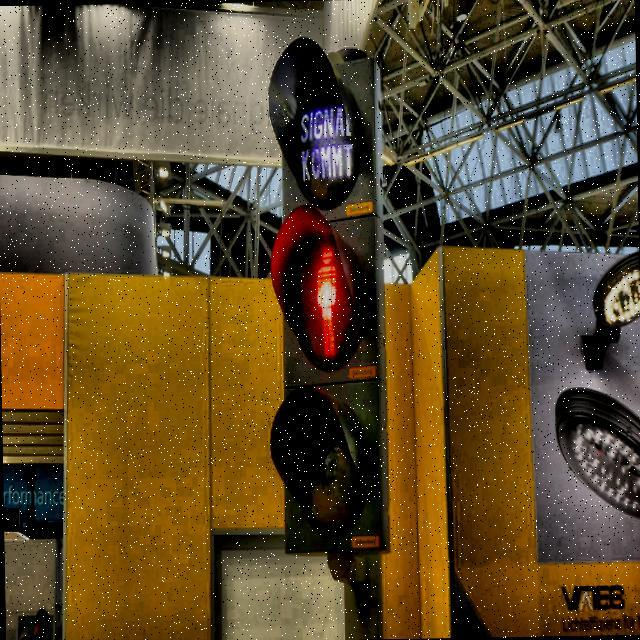red_light: (310, 242, 343, 360)
